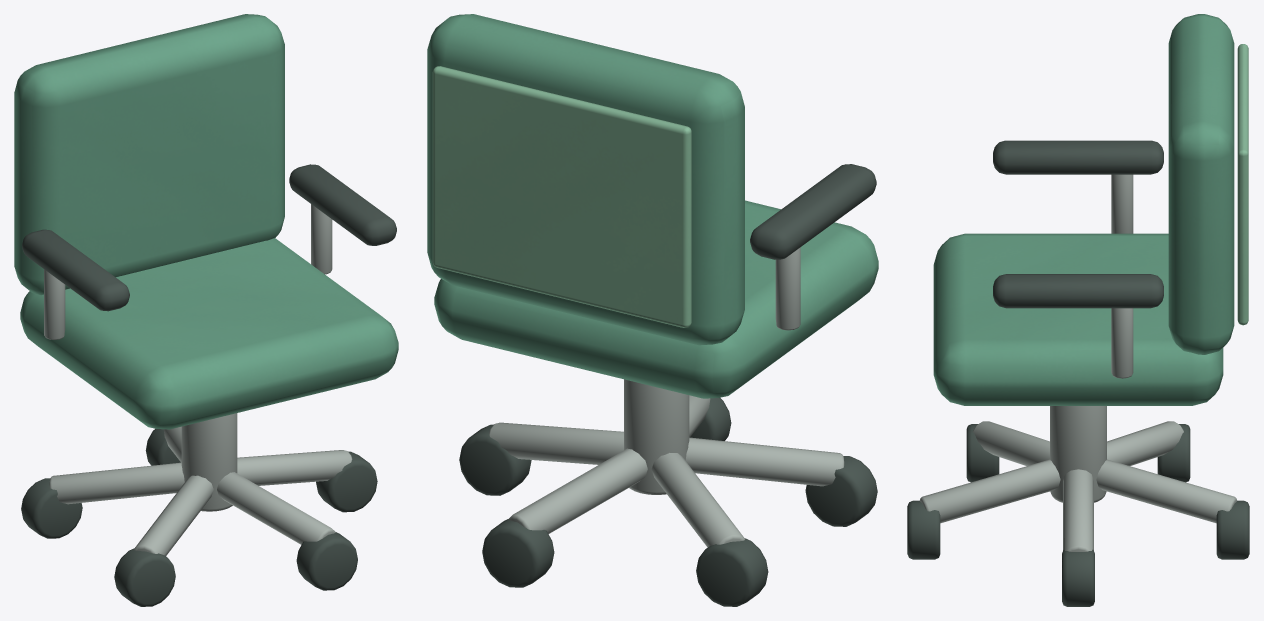
File: chair.glb
The picture shows the model from 3 angles, left to right: view 1: azimuth 30°, elevation 25°; view 2: azimuth 150°, elevation 25°; view 3: azimuth 270°, elevation 25°; orthographic projection. The views are drawn at different scales.
Parts seen in each view (by area): view 1: Sage cabinet enamel_Chair, Satin steel_Chair, Charcoal rubber_Chair; view 2: Sage cabinet enamel_Chair, Sage inset panels_Chair, Satin steel_Chair, Charcoal rubber_Chair; view 3: Sage cabinet enamel_Chair, Satin steel_Chair, Charcoal rubber_Chair, Sage inset panels_Chair.
Boxes of the visible parts, x1,y1,x2,y2 form: Sage cabinet enamel_Chair: (14, 14, 398, 429); Satin steel_Chair: (44, 204, 352, 555); Charcoal rubber_Chair: (21, 164, 396, 606); Sage cabinet enamel_Chair: (427, 14, 878, 398); Sage inset panels_Chair: (432, 66, 691, 327); Satin steel_Chair: (489, 247, 844, 547); Charcoal rubber_Chair: (459, 164, 877, 606); Sage cabinet enamel_Chair: (933, 14, 1234, 405); Satin steel_Chair: (919, 174, 1237, 551); Charcoal rubber_Chair: (907, 140, 1249, 606); Sage inset panels_Chair: (1237, 44, 1248, 325).
Size of the model in its own units: 0.842 by 1.17 by 0.7788.
Materials: 4 (2 with a texture image).
